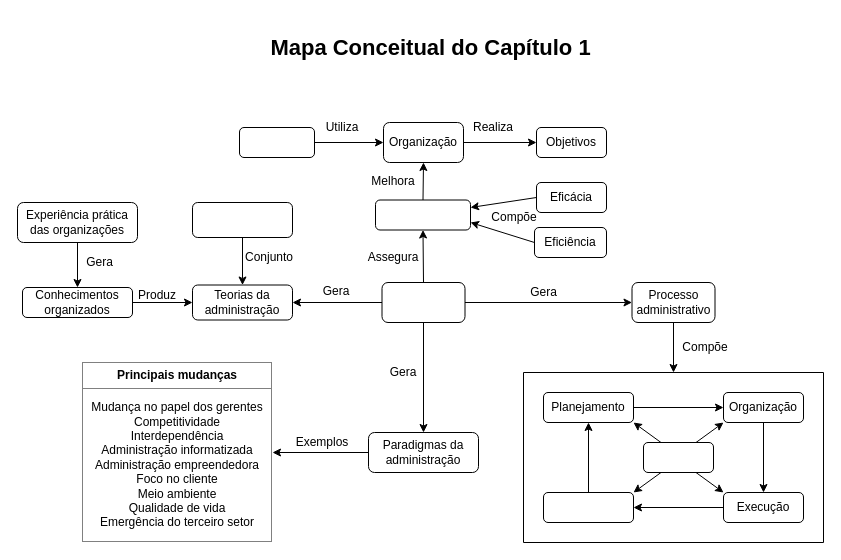
The diagram is 841 pixels wide and 560 high, and some of its shapes have lost their labels. The centre of each missing label's shape, as x and y in pixels:
Administração: (x=423, y=302)
Controle: (x=588, y=507)
Desempenho: (x=422, y=214)
Liderança: (x=678, y=457)
Recursos: (x=276, y=142)
Teoria Geral da Administração: (x=242, y=220)
